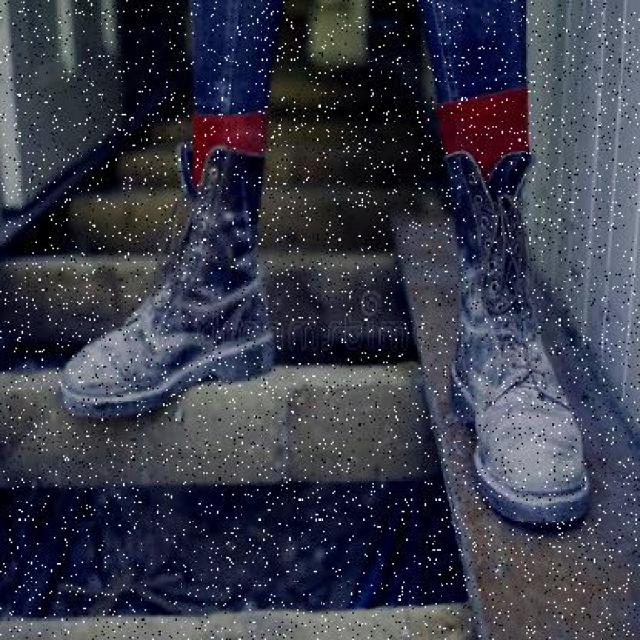shoes: (443, 153, 591, 527), (65, 154, 283, 395)
